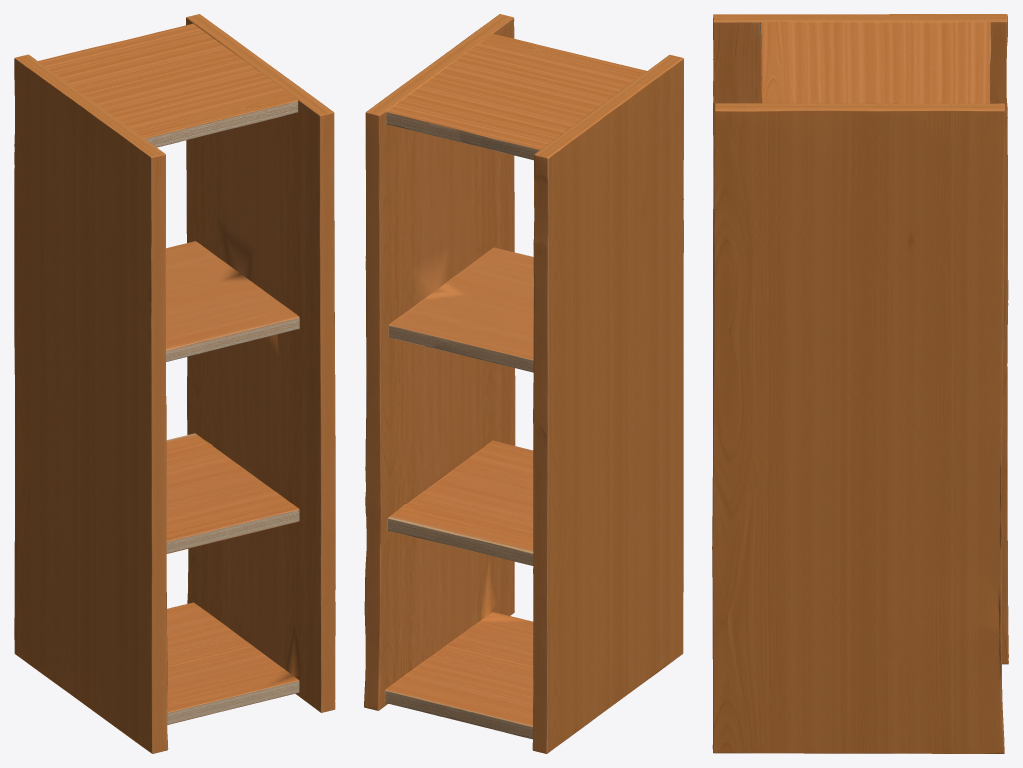
File: Meshy_AI_wooden_shelf_unit_1012144116_image-to-3d-texture.glb
The picture shows the model from 3 angles, left to right: view 1: azimuth 30°, elevation 25°; view 2: azimuth 150°, elevation 25°; view 3: azimuth 270°, elevation 25°; orthographic projection. The views are drawn at different scales.
Size of the model in its own units: 0.6235 by 1.9 by 0.7958.
1 material, 1 textured.
